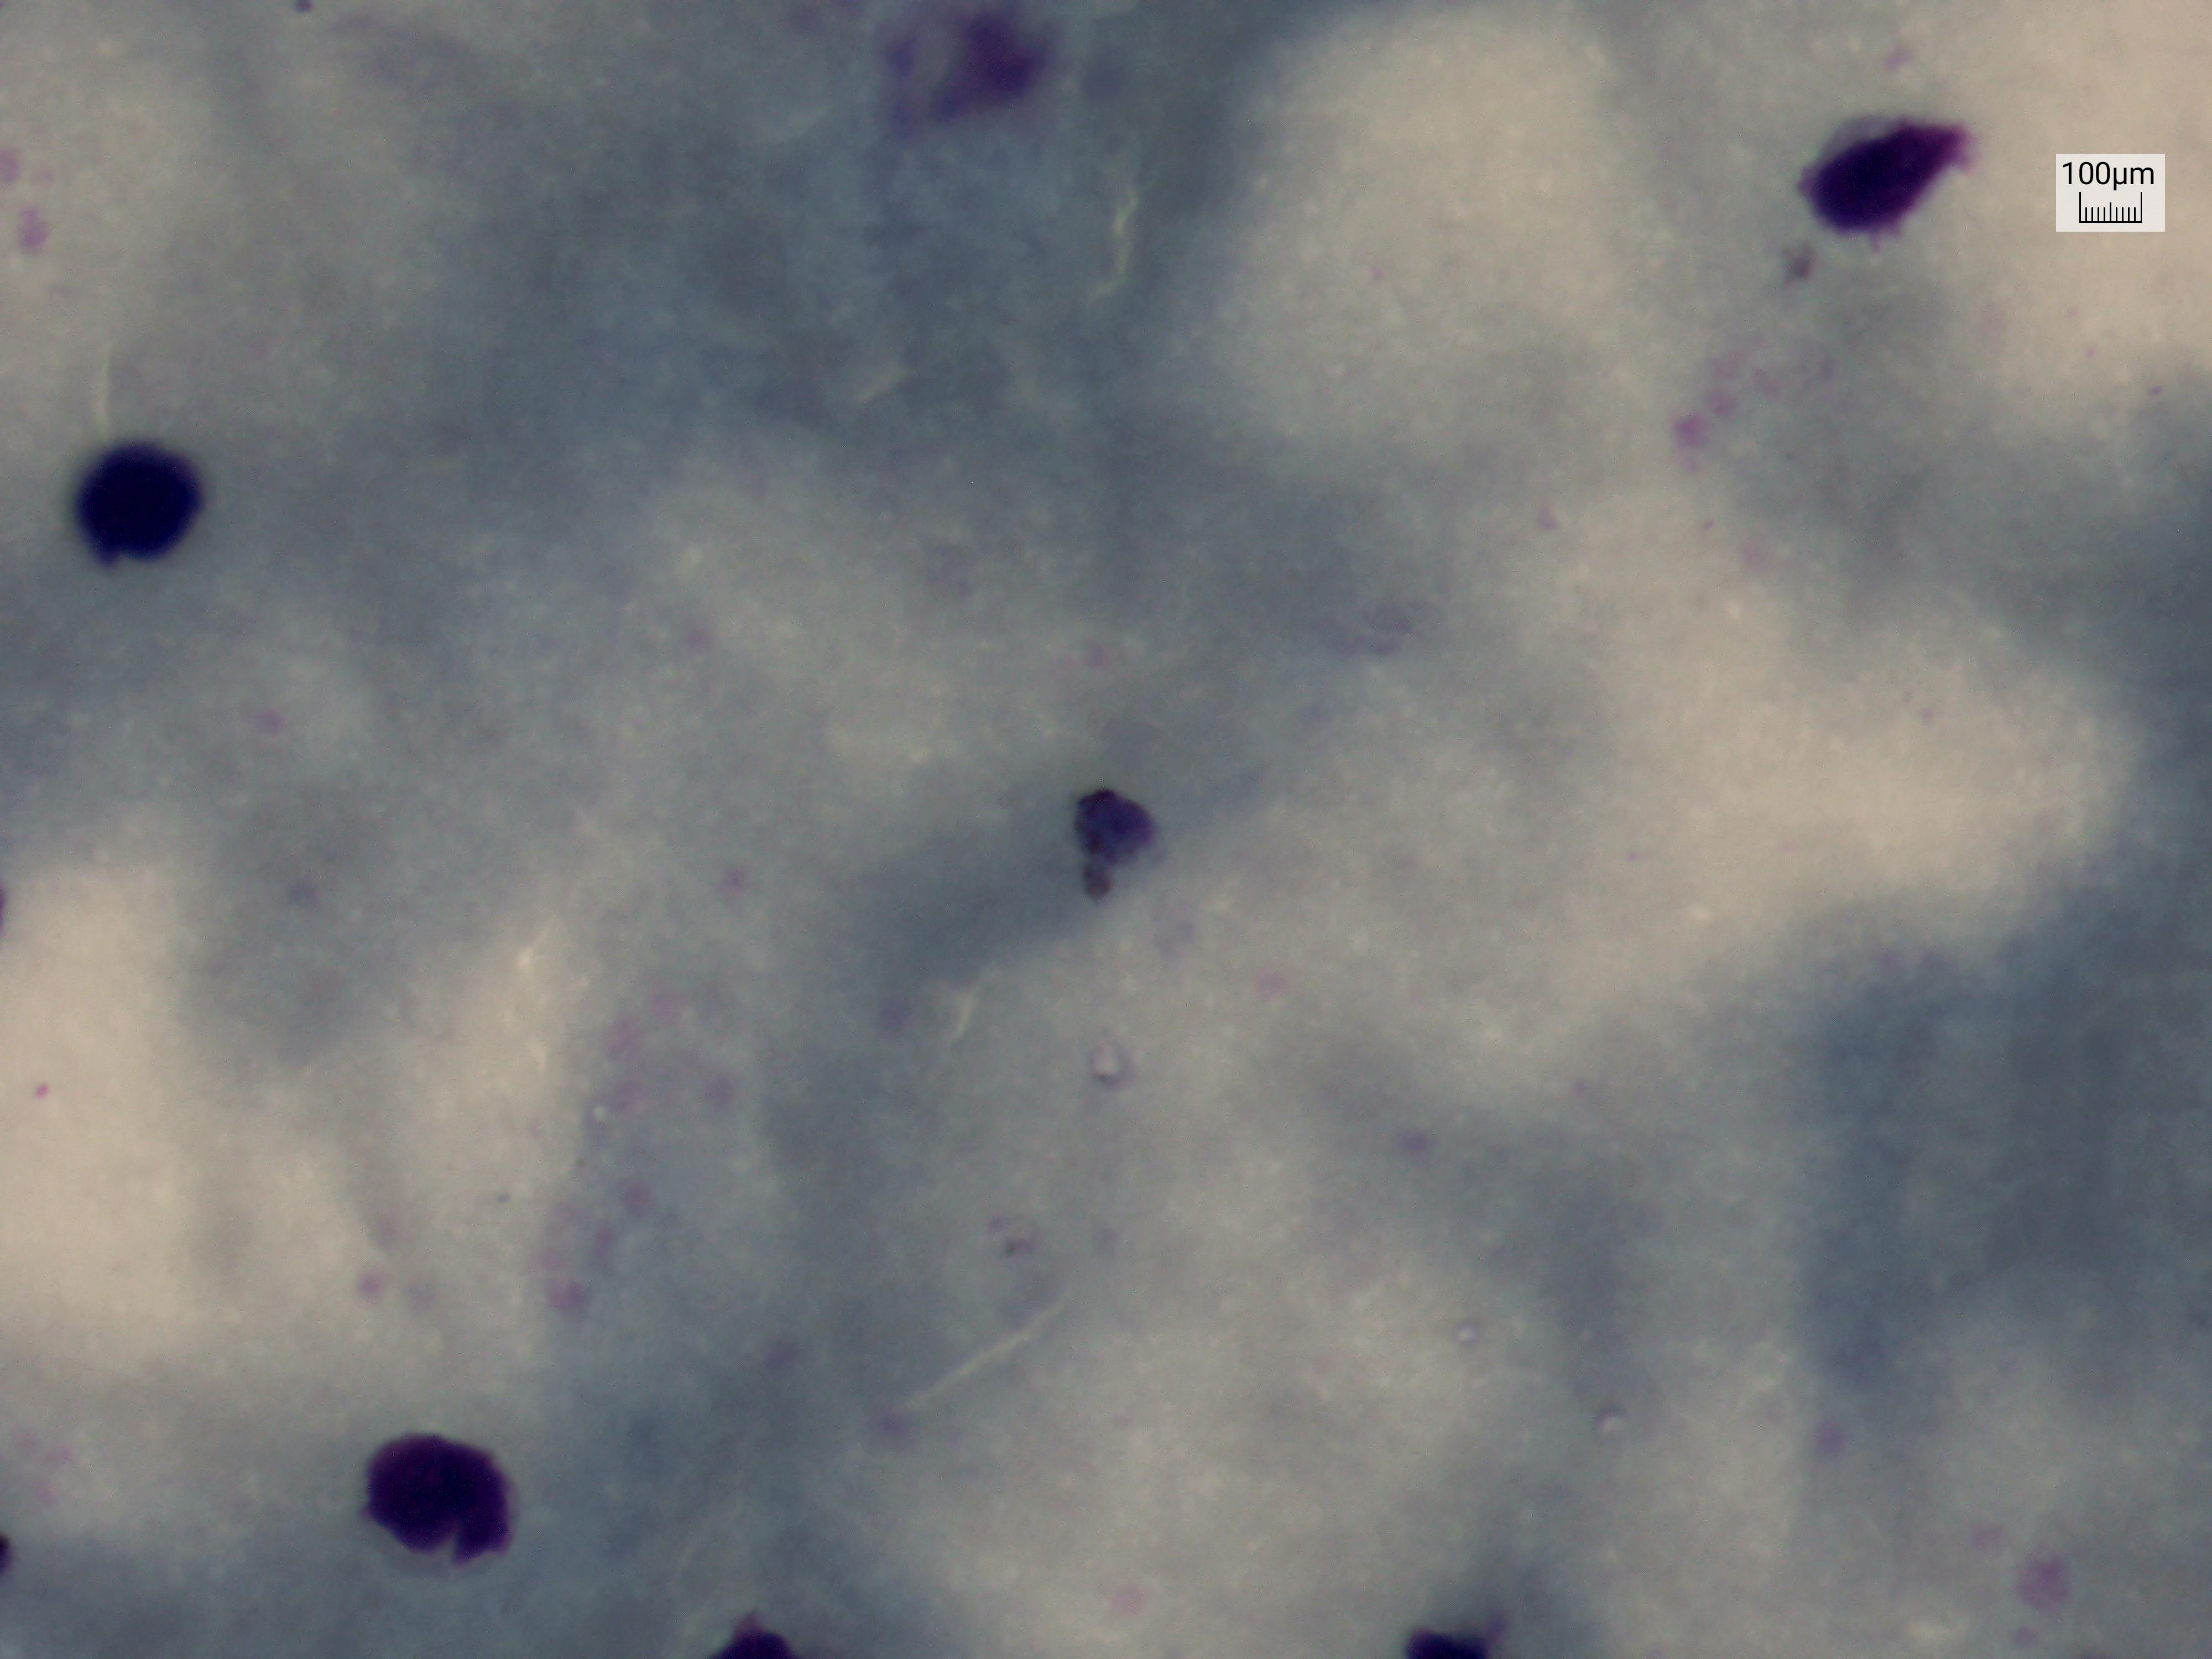p.vivax: (1049, 748, 1172, 931), (970, 1190, 1054, 1281)
